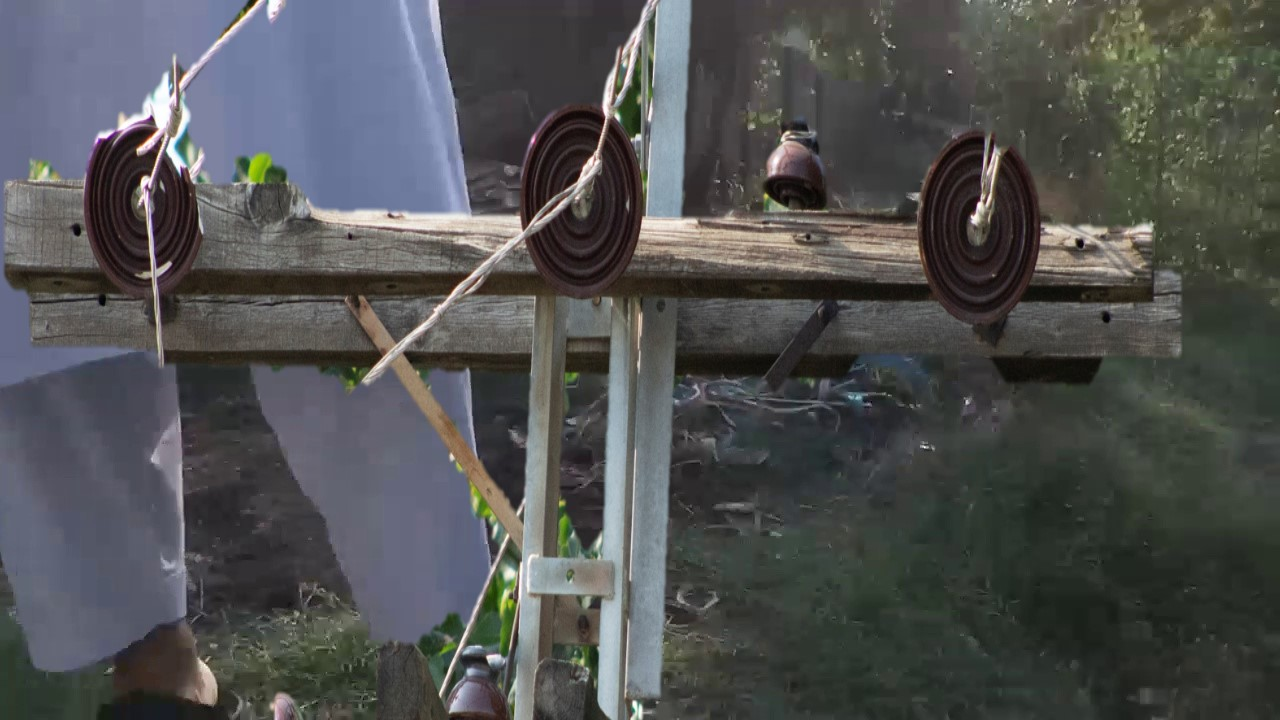defect_disc: (79, 105, 208, 304)
insulator_disc: (908, 127, 1049, 334), (509, 101, 652, 303)
insulator_pin: (755, 115, 837, 209), (438, 646, 514, 711)
